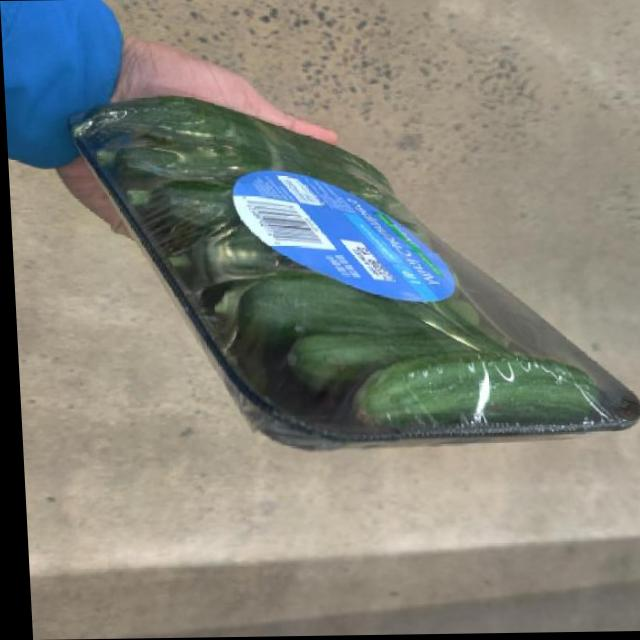Cucumber: (72, 88, 640, 441)
